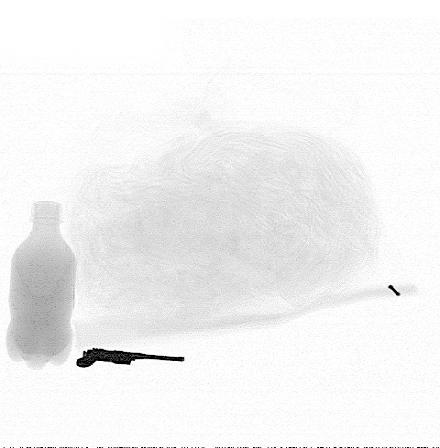Gun: (76, 348, 185, 368)
